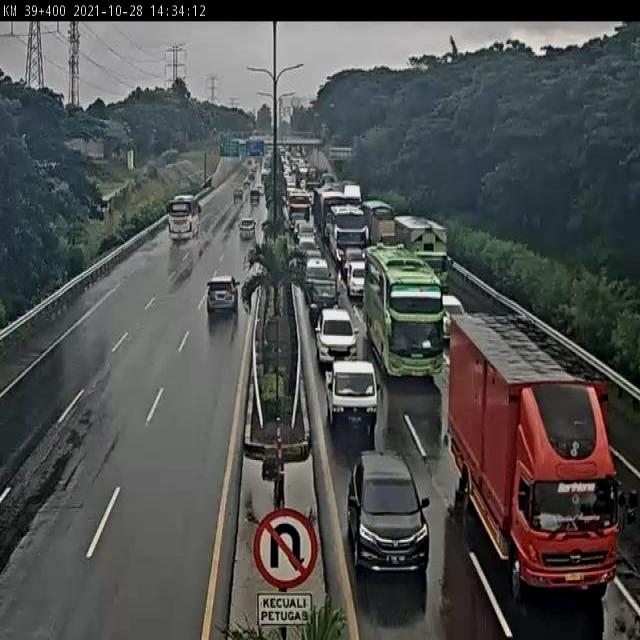Bus: (364, 243, 447, 382), (166, 193, 203, 244)
Car: (346, 450, 431, 580), (326, 363, 384, 434), (315, 307, 360, 367), (210, 275, 242, 314)
Truck: (446, 308, 624, 594)
